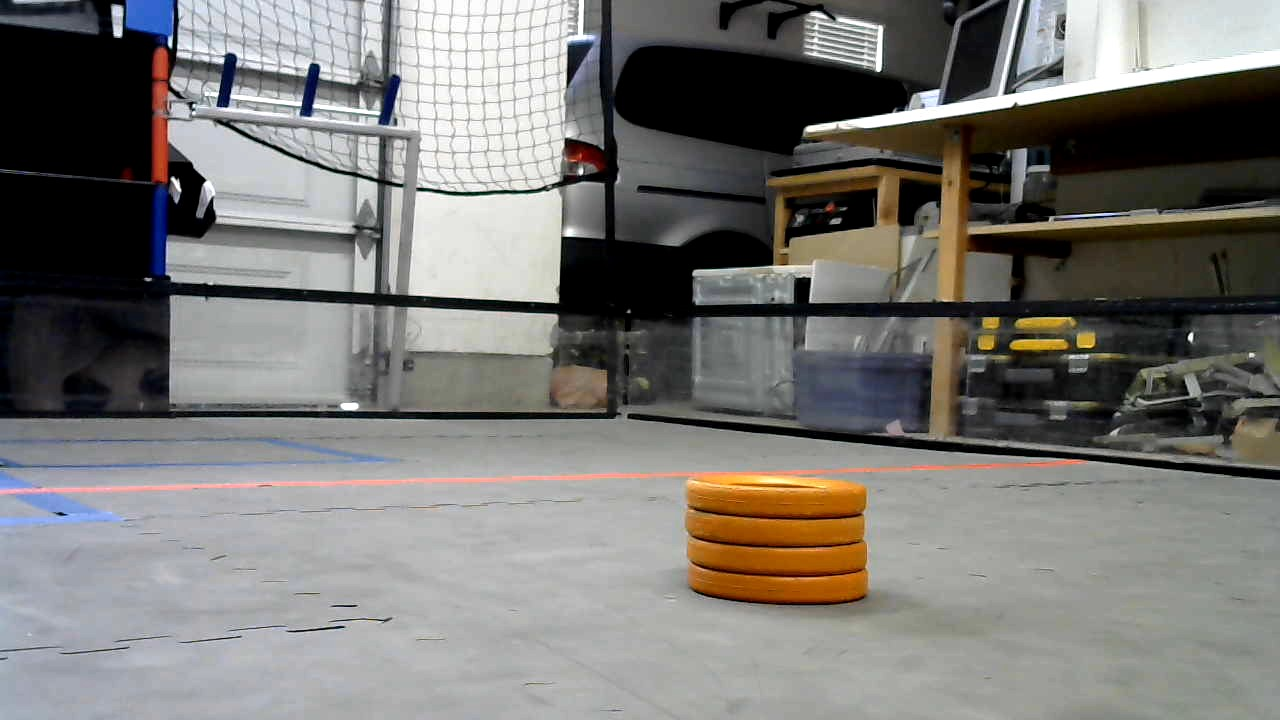FourStack: (683, 476, 871, 603)
